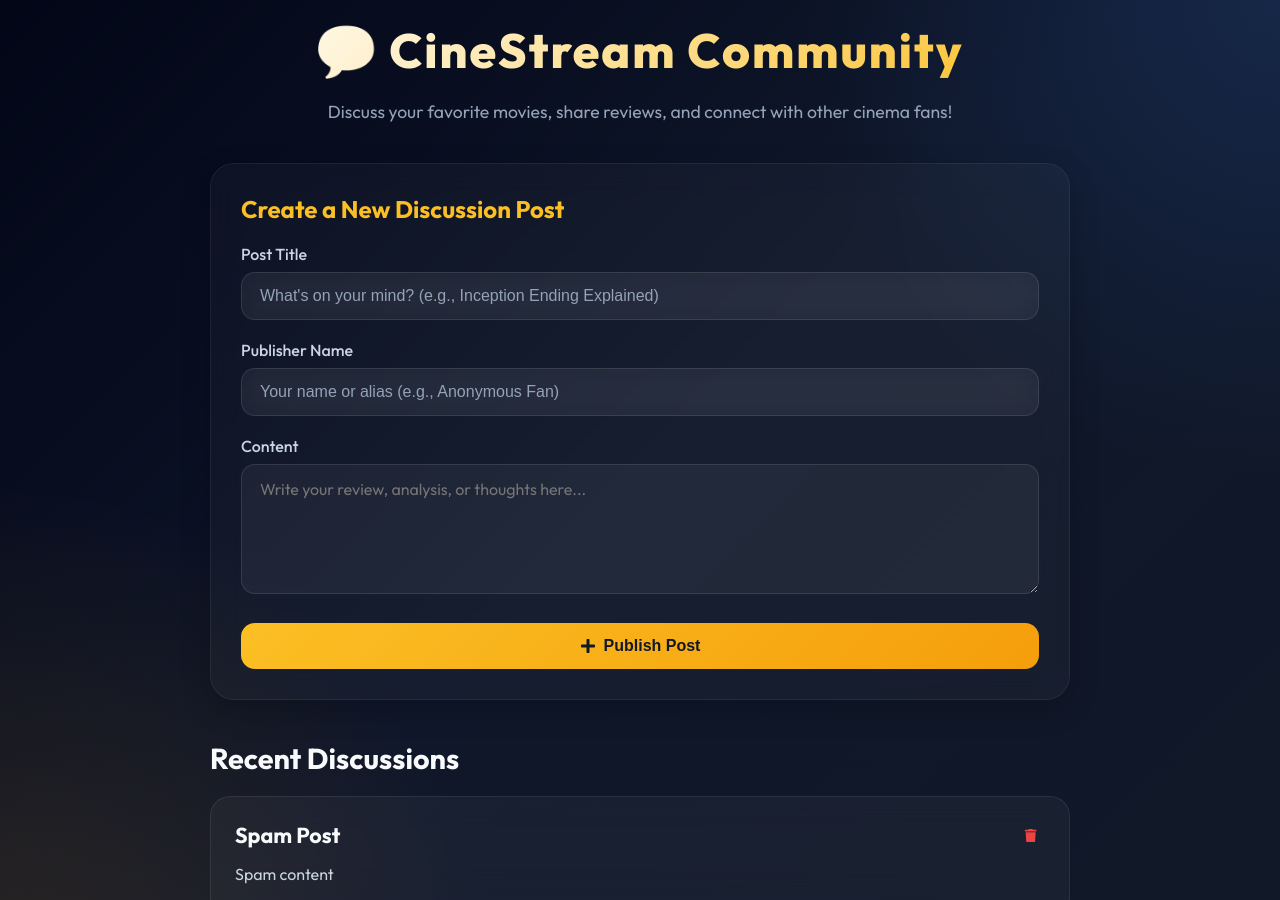
Community Component Tests › deletes a post and updates the DOM dynamically
expect the heading "Spam Post" is shown: met, box [235, 821, 340, 849]
Click the button named "Delete post": (1030, 836) [1016, 821, 1045, 850]
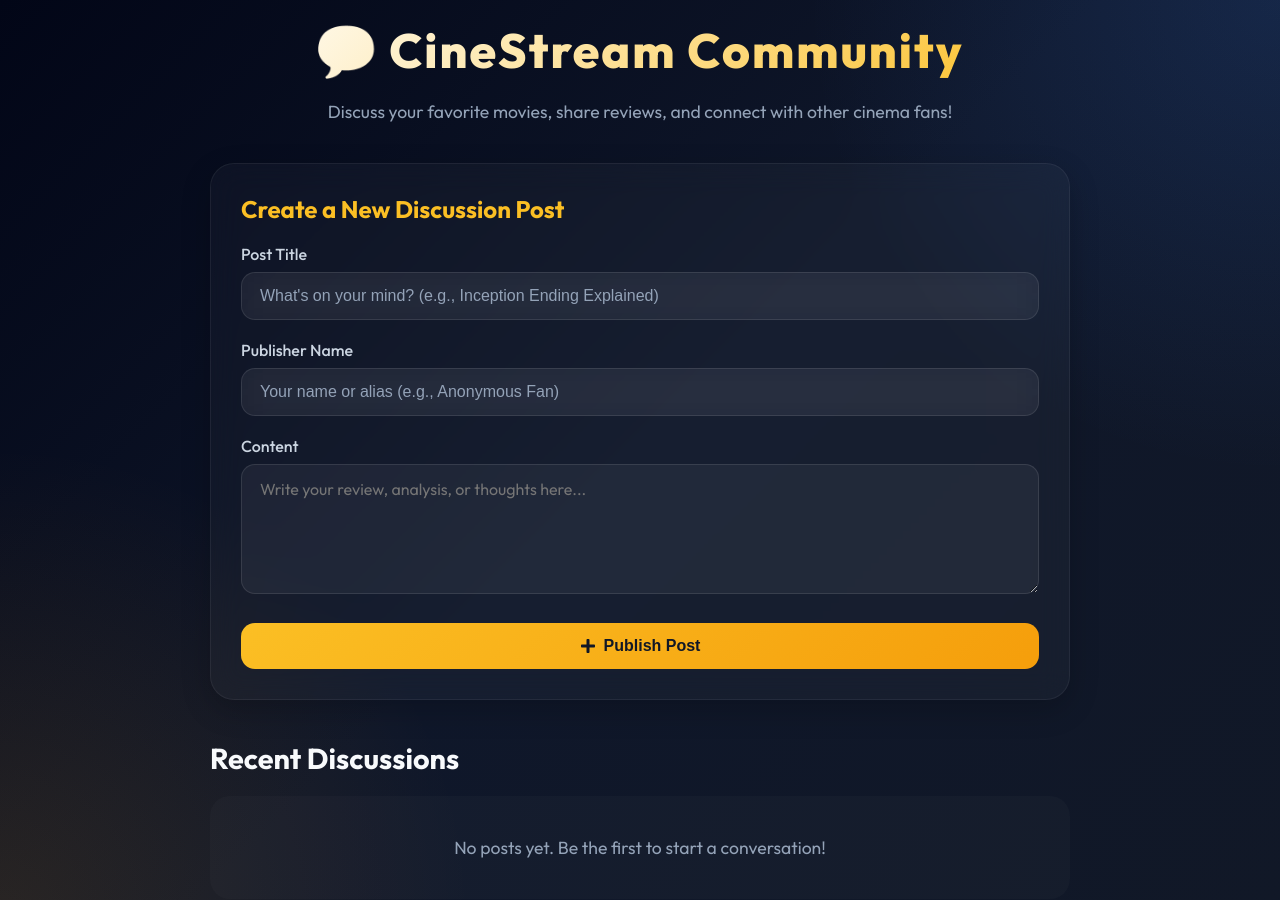
expect the heading "Spam Post" is gone: met
